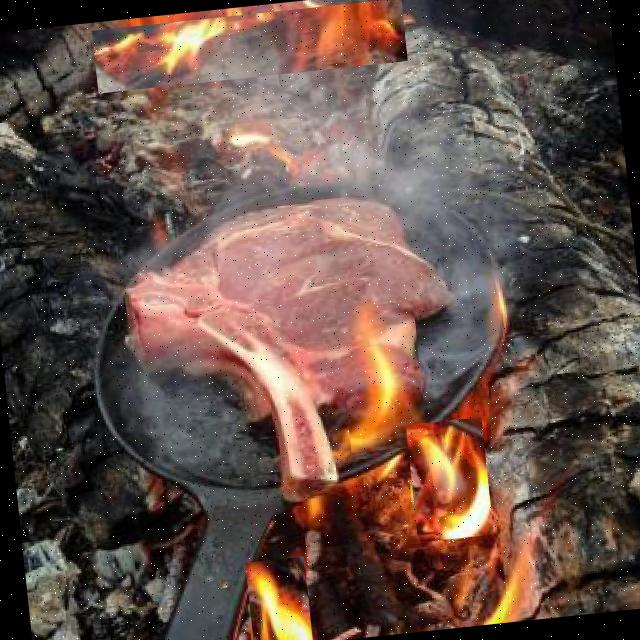fire: (91, 0, 407, 93), (336, 300, 428, 452), (406, 417, 494, 542), (471, 525, 540, 625), (245, 556, 313, 640), (225, 120, 272, 151)
